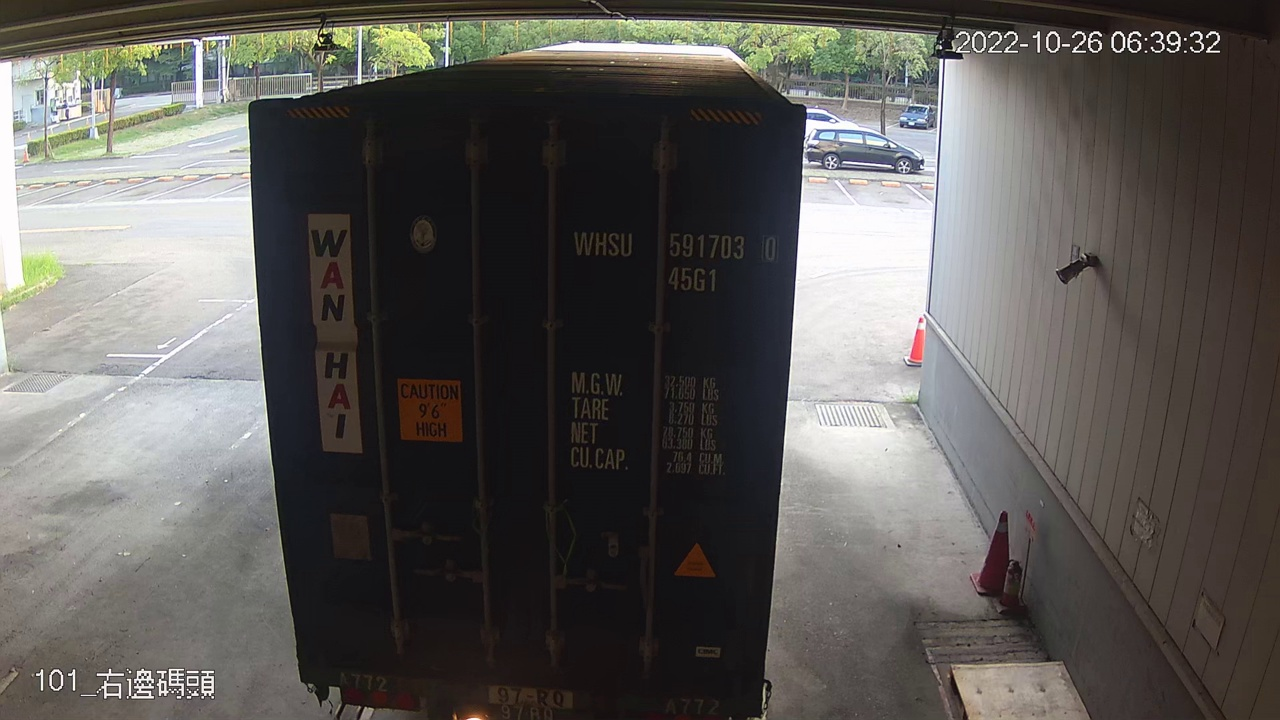container: (565, 220, 784, 296)
